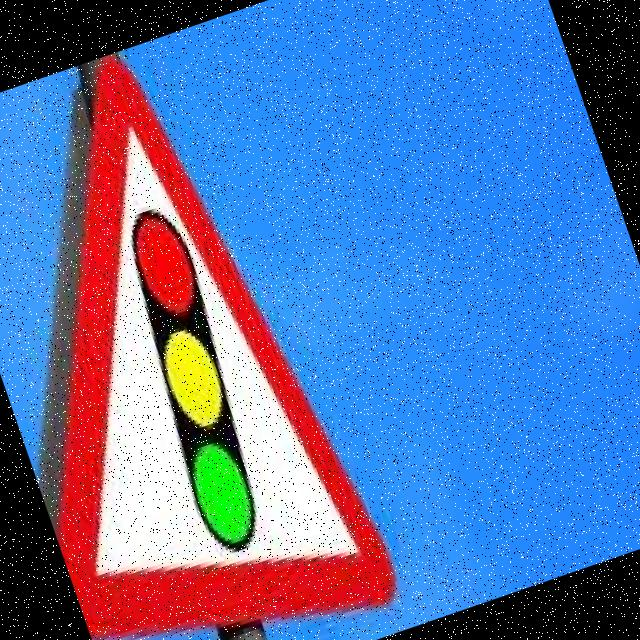light_traffic: (0, 21, 409, 640)
